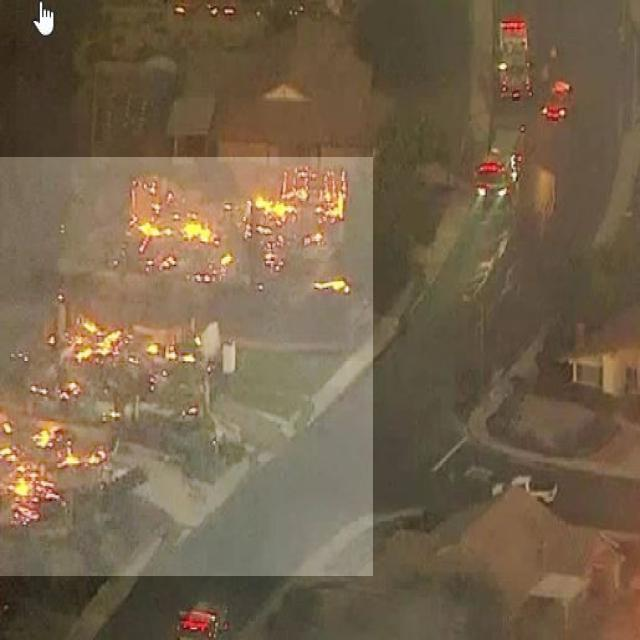Fire: (0, 157, 373, 576)
